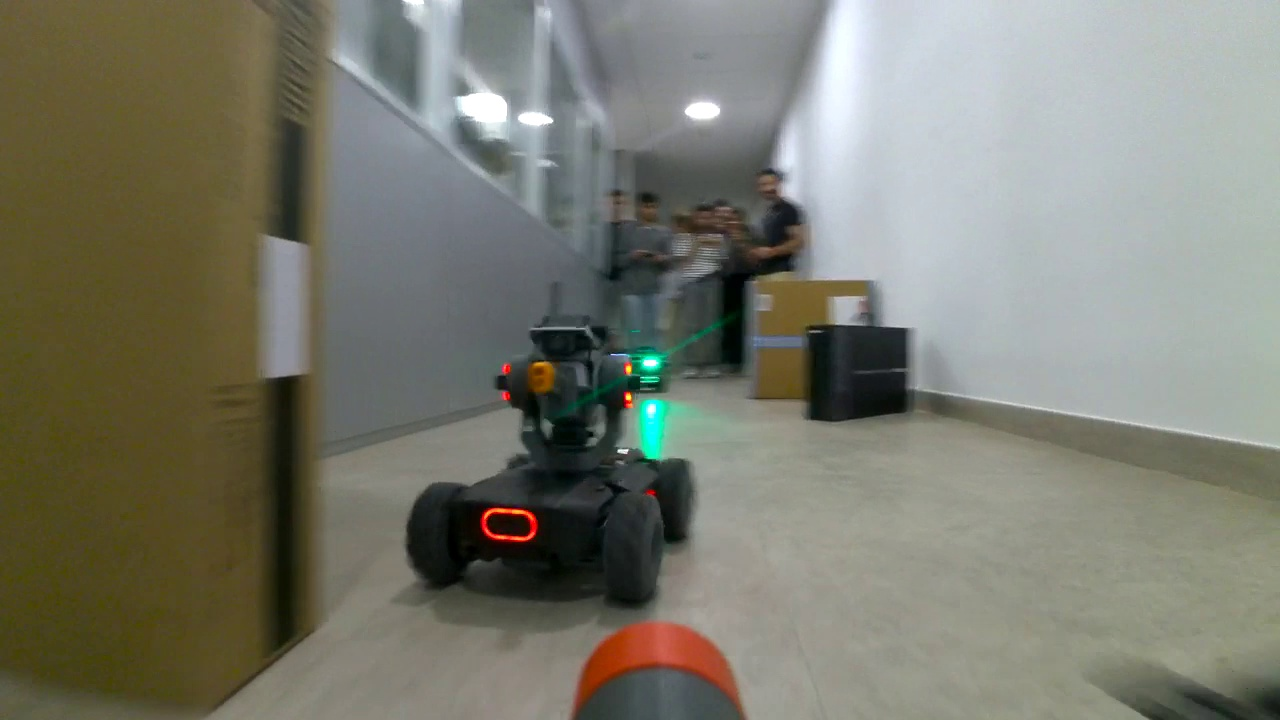robot: (403, 312, 700, 610)
